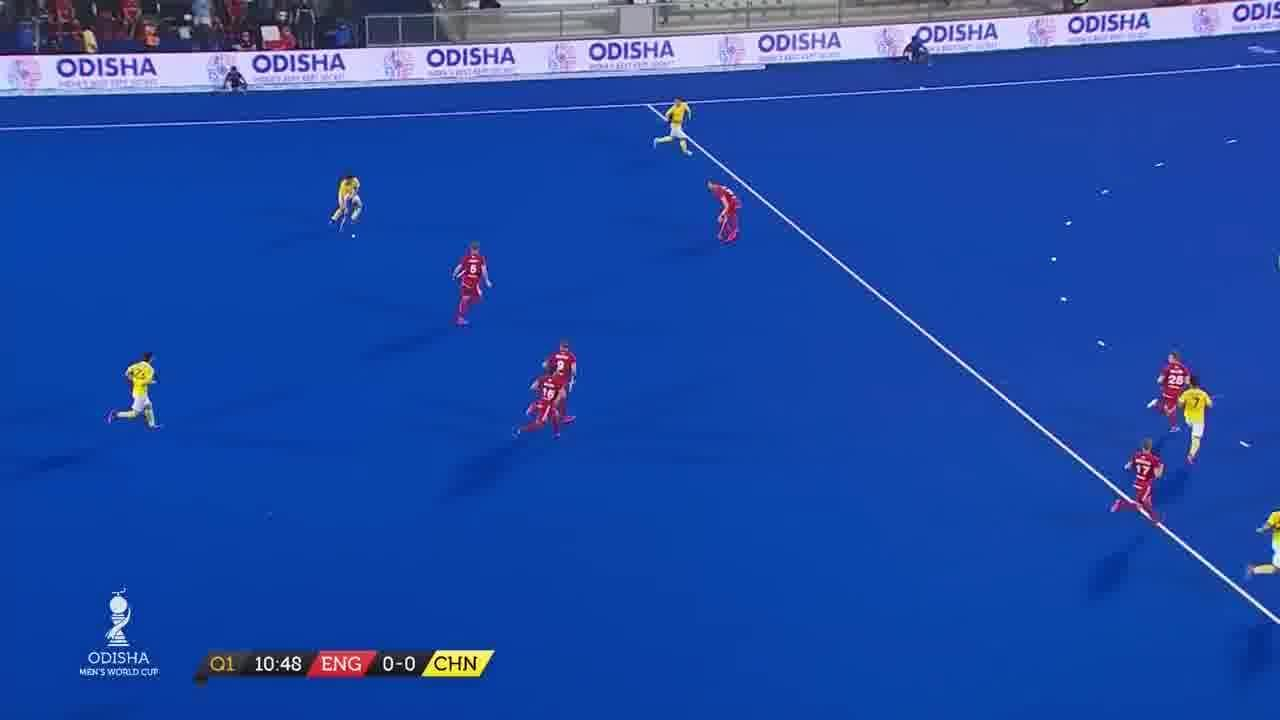ball: (349, 232, 360, 241)
